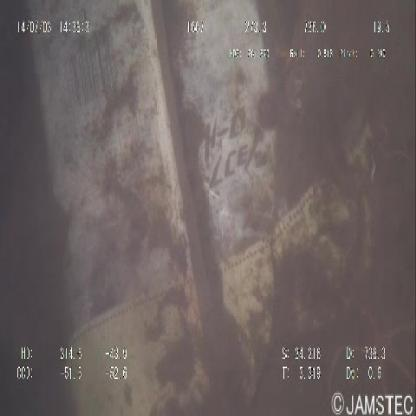Rác: (19, 8, 384, 413)
